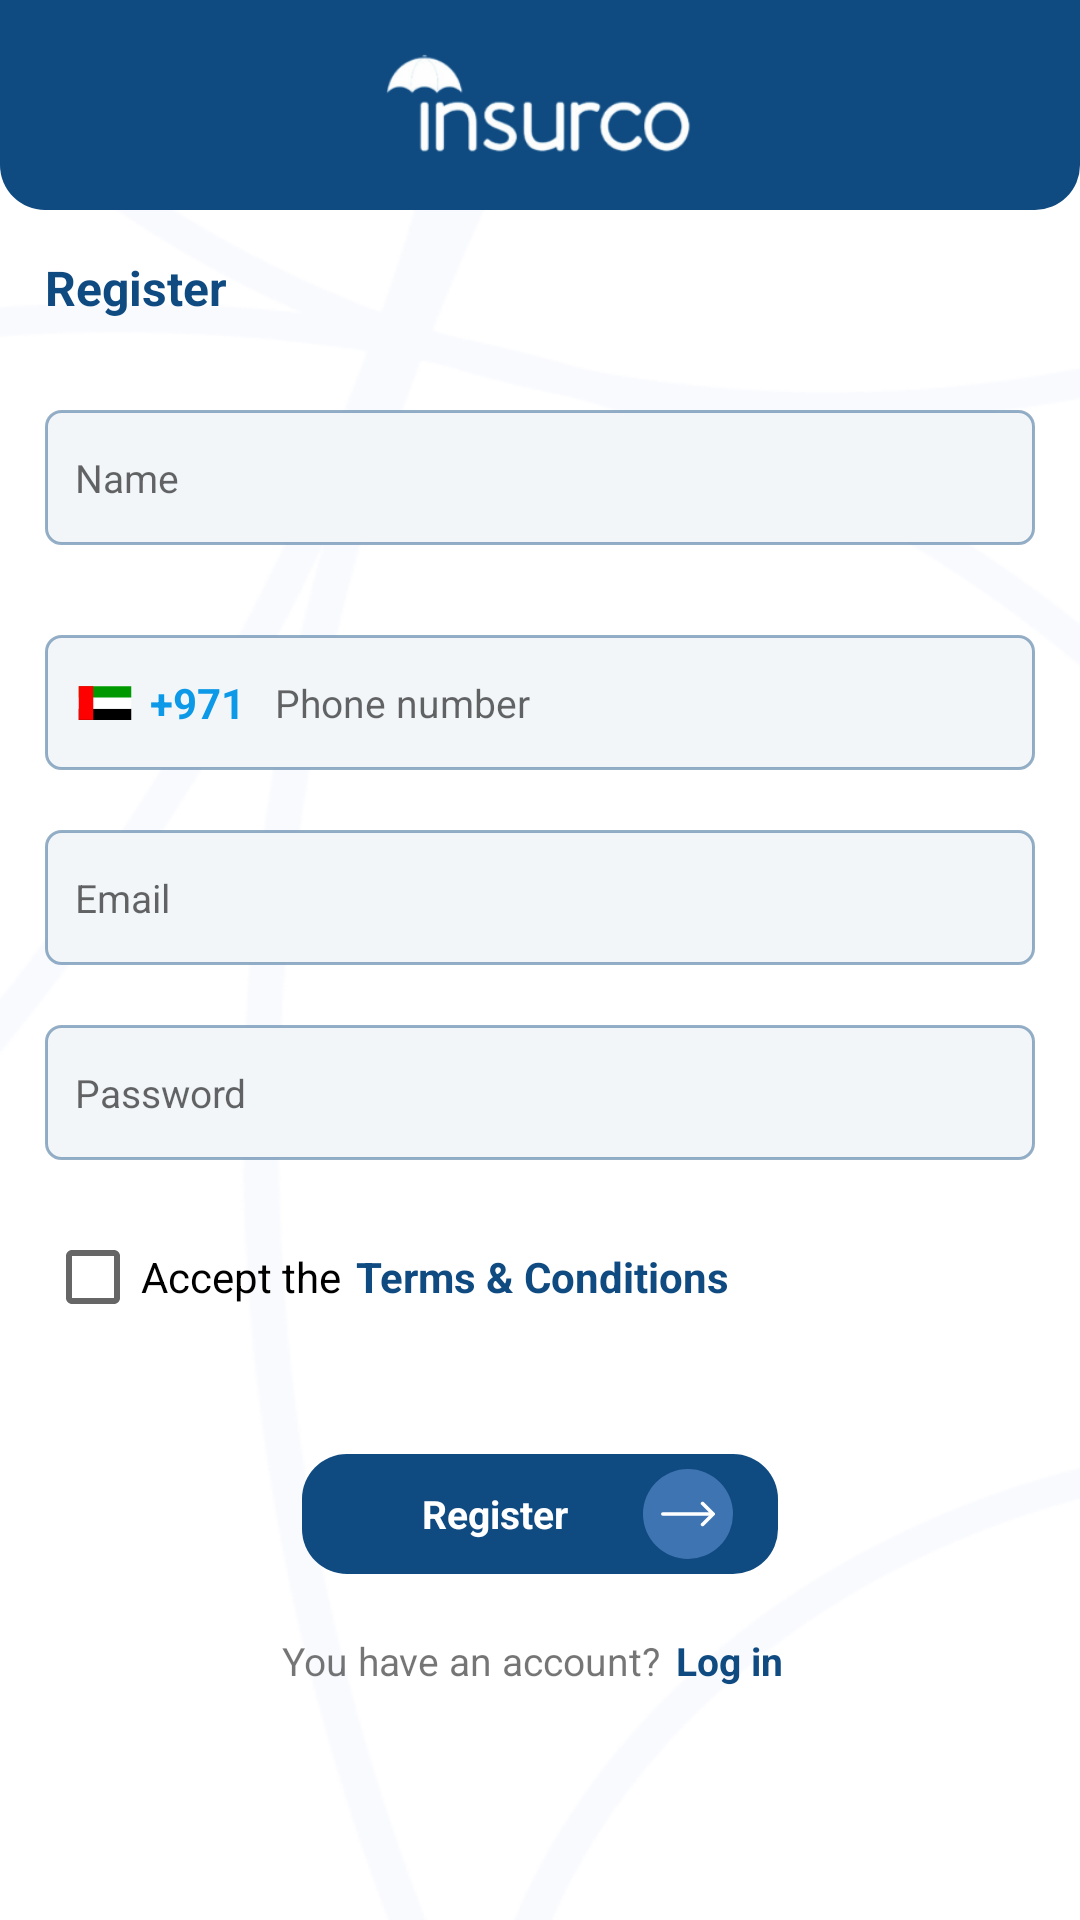

Icons on this 1080px×1920px Android screen, each with the point to tap as point (x, y):
emirate flag: point (105, 703)
next: point (688, 1514)
